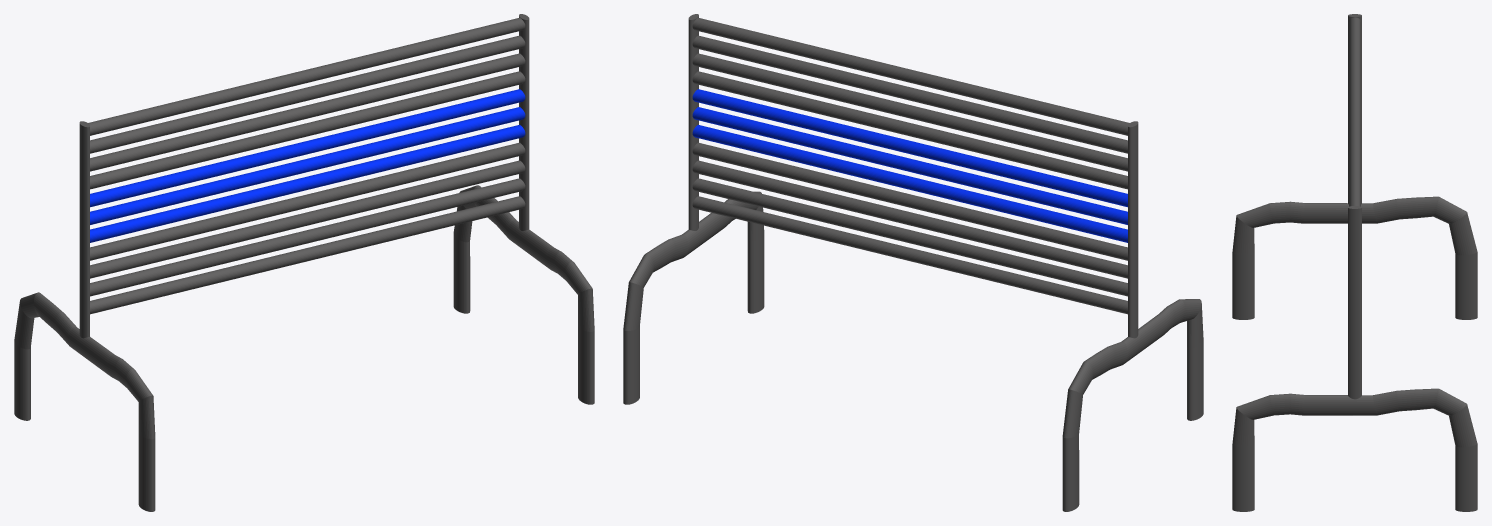
Rendered from Barracade Metal2.fbx.
3 renders of one model, left to right at view 1: azimuth 30°, elevation 25°; view 2: azimuth 150°, elevation 25°; view 3: azimuth 270°, elevation 25°, orthographic. The views are drawn at different scales.
Visible parts, largest first — view 1: Barracade Metal2; view 2: Barracade Metal2; view 3: Barracade Metal2.
Boxes of the visible parts, x1,y1,x2,y2 form: Barracade Metal2: (14,14,594,511); Barracade Metal2: (623,14,1203,511); Barracade Metal2: (1232,14,1477,511).
Bounding box in the file's own units: 418 × 299 × 220.
